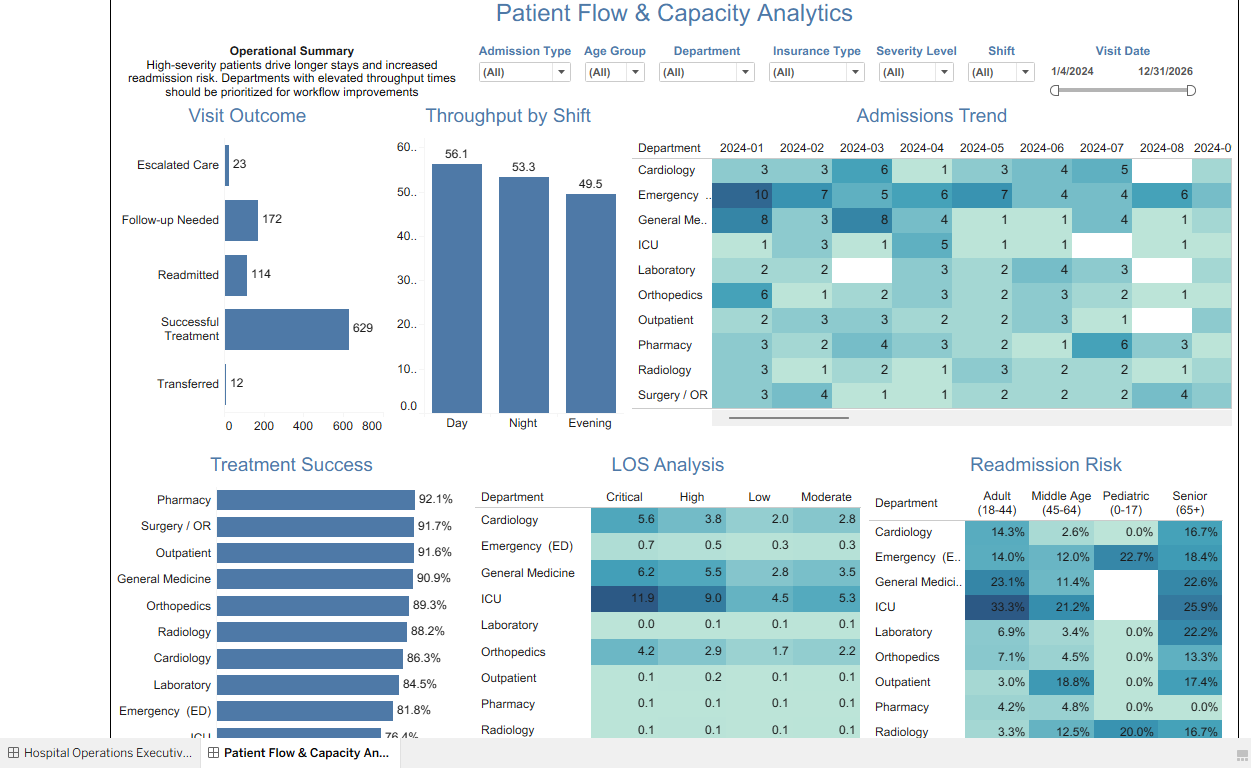

What the dashboard file says about the page in this screenshot:
{"tool":"tableau","page":{"name":"Patient Flow & Capacity Analytics","canvas":[1145,800],"ordinal":1},"visuals":[{"type":"title","box":[9,9,1127,35]},{"type":"text","box":[10,54,360,64]},{"type":"filter","title":"Visit Outcome ","param":"[federated.16tmy5q0wsebc01do4ov60bm0m2q].[none:admission_type:nk]","box":[370,54,106,64]},{"type":"filter","title":"Visit Outcome ","param":"[federated.16tmy5q0wsebc01do4ov60bm0m2q].[none:age_group:nk]","box":[476,54,74,64]},{"type":"filter","title":"Visit Outcome ","param":"[federated.16tmy5q0wsebc01do4ov60bm0m2q].[none:department:nk]","box":[550,54,110,64]},{"type":"filter","title":"Visit Outcome ","param":"[federated.16tmy5q0wsebc01do4ov60bm0m2q].[none:insurance_type:nk]","box":[660,54,110,64]},{"type":"filter","title":"Visit Outcome ","param":"[federated.16tmy5q0wsebc01do4ov60bm0m2q].[none:severity_level:nk]","box":[770,54,89,64]},{"type":"filter","title":"Visit Outcome ","param":"[federated.16tmy5q0wsebc01do4ov60bm0m2q].[none:shift:nk]","box":[859,54,81,64]},{"type":"filter","title":"Visit Outcome ","param":"[federated.16tmy5q0wsebc01do4ov60bm0m2q].[none:visit_date:qk]","box":[940,54,162,64]},{"type":"blank","box":[1102,54,32,64]},{"type":"worksheet","title":"Visit Outcome ","mark":"Automatic","rows":["visit_outcome"],"cols":["Calculation_1196007428984837"],"box":[10,111,276,340]},{"type":"worksheet","title":"Throughput by Shift","mark":"Automatic","rows":["Calculation_0879897281826821"],"cols":["shift"],"box":[286,111,240,340]},{"type":"worksheet","title":"Admissions Trend","mark":"Square","rows":["department"],"cols":["month"],"box":[526,111,608,340]},{"type":"worksheet","title":"Treatment Success","mark":"Automatic","rows":["department"],"cols":["Calculation_0879897282613257"],"box":[10,460,359,329]},{"type":"worksheet","title":"LOS Analysis","mark":"Square","rows":["department"],"cols":["severity_level"],"box":[369,460,394,329]},{"type":"worksheet","title":"Readmission Risk","mark":"Square","rows":["department"],"cols":["age_group"],"box":[763,460,362,329]}]}

Visuals, with their boxes on the page's 1145x800 design canvas (x1, y1, x2, y2). These are canvas units, not pixel positions in the 1251x768 screenshot, which may show the page scaled, cropped or inside an application window:
title: 9:9:1136:44
text: 10:54:370:118
"Visit Outcome " filter: 370:54:476:118
"Visit Outcome " filter: 476:54:550:118
"Visit Outcome " filter: 550:54:660:118
"Visit Outcome " filter: 660:54:770:118
"Visit Outcome " filter: 770:54:859:118
"Visit Outcome " filter: 859:54:940:118
"Visit Outcome " filter: 940:54:1102:118
blank: 1102:54:1134:118
"Visit Outcome " worksheet: 10:111:286:451
"Throughput by Shift" worksheet: 286:111:526:451
"Admissions Trend" worksheet (Square marks): 526:111:1134:451
"Treatment Success" worksheet: 10:460:369:789
"LOS Analysis" worksheet (Square marks): 369:460:763:789
"Readmission Risk" worksheet (Square marks): 763:460:1125:789
